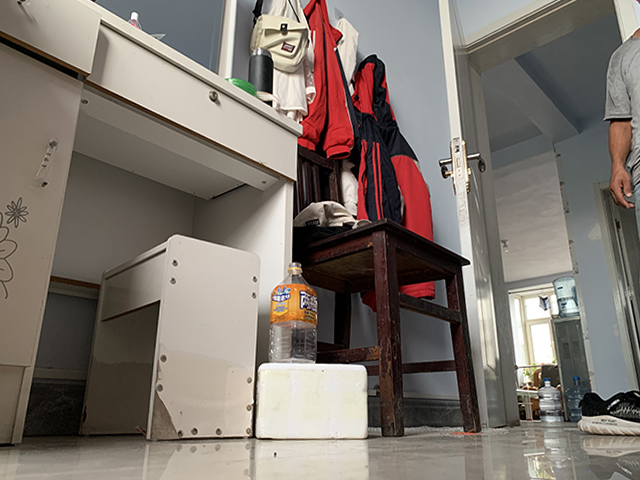stool: (293, 143, 483, 439)
table: (1, 1, 307, 446)
